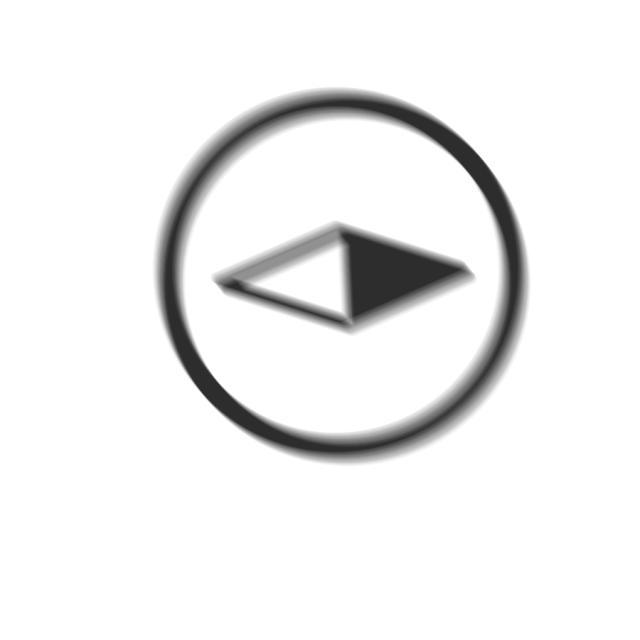compass: (148, 85, 535, 471)
